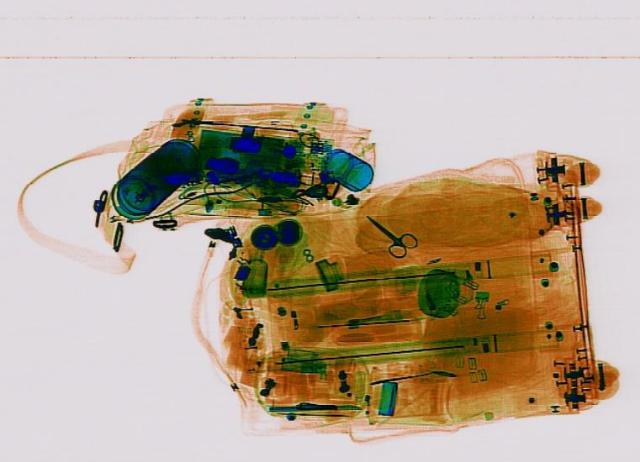Scissors: (350, 207, 424, 257)
